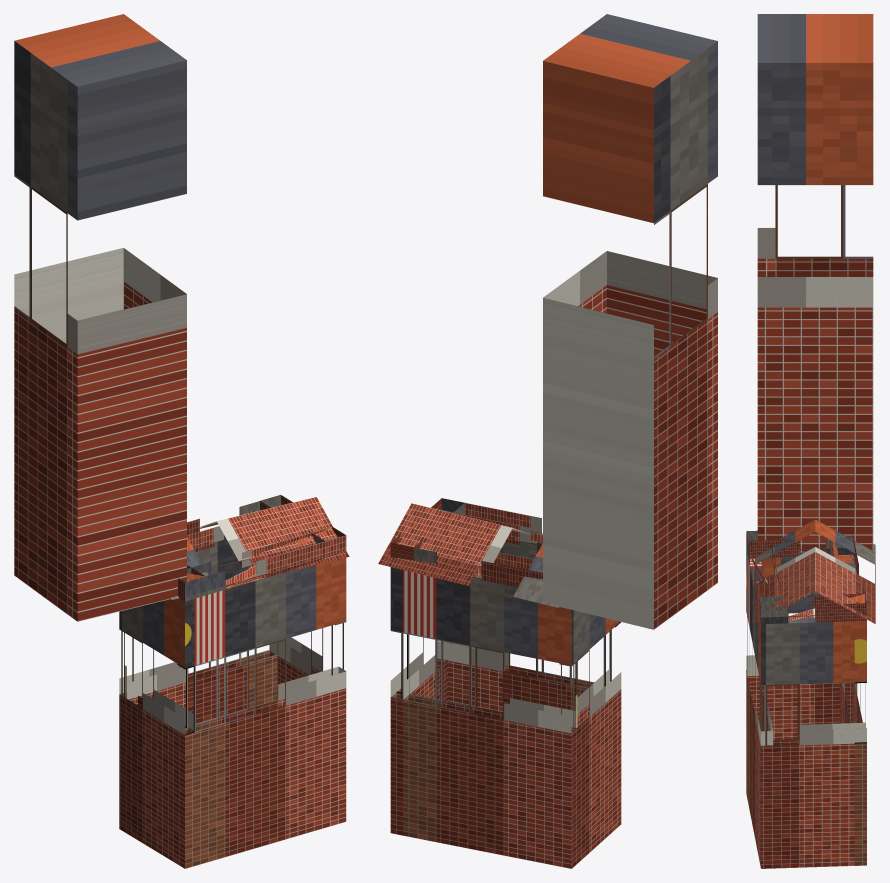
The picture shows the model from 3 angles, left to right: view 1: azimuth 30°, elevation 25°; view 2: azimuth 150°, elevation 25°; view 3: azimuth 270°, elevation 25°; orthographic projection. The views are drawn at different scales.
Parts seen in each view (by area): view 1: 1132023215__chimney_0_xb, 1132023215__wall_1_xb, 1132023215__wall_0_xb, 1132023215__wall_3_xb, 1132023215_roof_-1_xb, 1132023215__cornice_1, 1132023215__wall_2_xb, 1132023215__cornice_3; view 2: 1132023215__chimney_0_xb, 1132023215__wall_3_xb, 1132023215__wall_0_xb, 1132023215_roof_1_xb, 1132023215__wall_1_xb, 1132023215__wall_2_xb, 1132023215__cornice_1, 1132023215__cornice_3, 1132023215__cornice_2; view 3: 1132023215__chimney_0_xb, 1132023215__wall_2_xb, 1132023215__wall_0_xb, 1132023215__wall_1_xb, 1132023215_roof_1_xb, 1132023215_roof_-1_xb, 1132023215__wall_3_xb, 1132023215__cornice_2, 1132023215__cornice_0, 1132023215__cornice_1, 1132023215__cornice_3.
Part boxes in pixels (left/top/right/bottom): 1132023215__chimney_0_xb: left=14, top=14, right=186, bottom=621; 1132023215__wall_1_xb: left=177, top=557, right=346, bottom=868; 1132023215__wall_0_xb: left=119, top=598, right=195, bottom=868; 1132023215__wall_3_xb: left=119, top=535, right=277, bottom=723; 1132023215_roof_-1_xb: left=171, top=497, right=349, bottom=599; 1132023215__cornice_1: left=185, top=526, right=346, bottom=601; 1132023215__wall_2_xb: left=269, top=621, right=346, bottom=683; 1132023215__cornice_3: left=187, top=495, right=280, bottom=551; 1132023215__chimney_0_xb: left=543, top=14, right=717, bottom=629; 1132023215__wall_3_xb: left=396, top=570, right=577, bottom=868; 1132023215__wall_0_xb: left=559, top=610, right=621, bottom=868; 1132023215_roof_1_xb: left=378, top=503, right=559, bottom=607; 1132023215__wall_1_xb: left=437, top=541, right=620, bottom=712; 1132023215__wall_2_xb: left=390, top=567, right=451, bottom=835; 1132023215__cornice_1: left=431, top=498, right=542, bottom=545; 1132023215__cornice_3: left=413, top=547, right=542, bottom=587; 1132023215__cornice_2: left=390, top=498, right=464, bottom=560; 1132023215__chimney_0_xb: left=757, top=14, right=873, bottom=552; 1132023215__wall_2_xb: left=760, top=617, right=866, bottom=868; 1132023215__wall_0_xb: left=746, top=550, right=852, bottom=739; 1132023215__wall_1_xb: left=746, top=555, right=773, bottom=867; 1132023215_roof_1_xb: left=815, top=519, right=875, bottom=623; 1132023215_roof_-1_xb: left=755, top=520, right=815, bottom=623; 1132023215__wall_3_xb: left=840, top=554, right=866, bottom=865; 1132023215__cornice_2: left=759, top=593, right=866, bottom=624; 1132023215__cornice_0: left=748, top=535, right=853, bottom=558; 1132023215__cornice_1: left=746, top=530, right=783, bottom=622; 1132023215__cornice_3: left=830, top=538, right=866, bottom=603.
Size of the model in its own units: 0.371 by 1.05 by 0.1678.
1 material, 1 textured.
